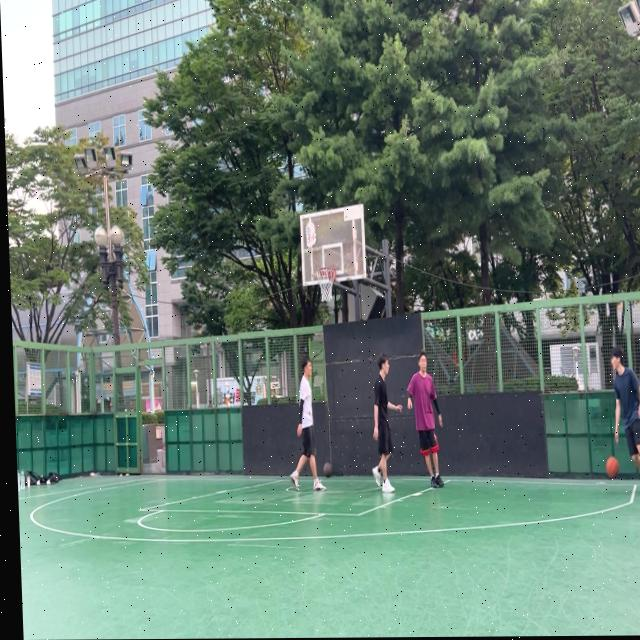basketball: (606, 457, 619, 480), (323, 462, 333, 478)
hoop: (315, 266, 338, 303)
